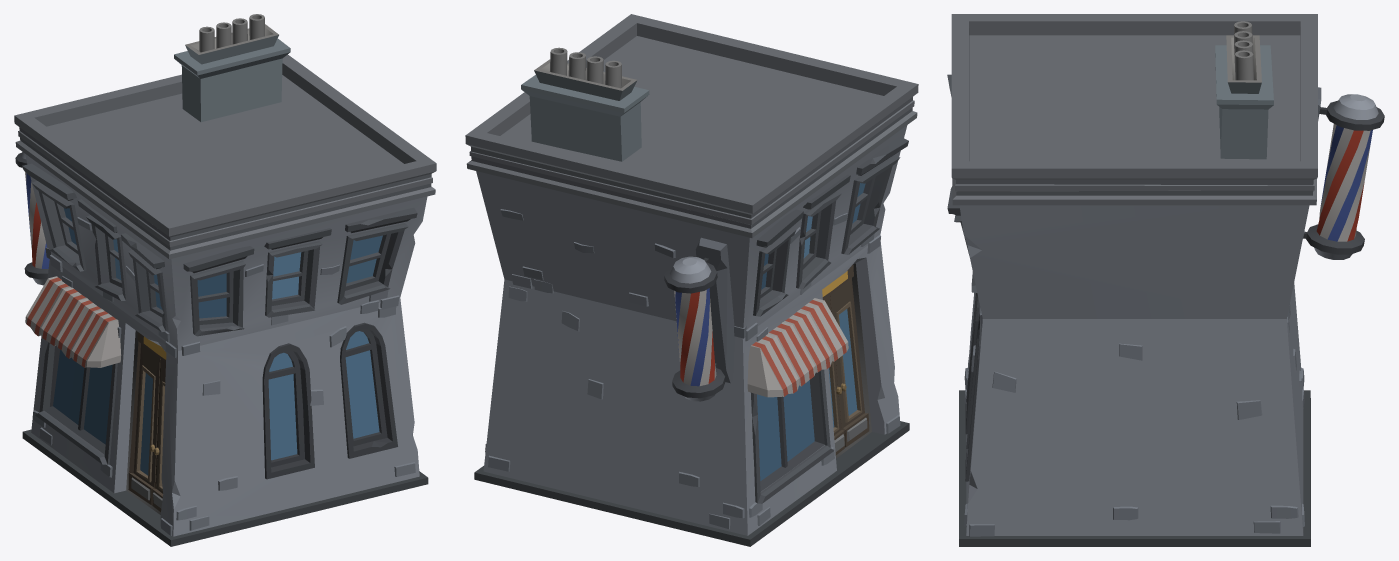
Rendered from House_2.fbx.
3 renders of one model, left to right at view 1: azimuth 30°, elevation 25°; view 2: azimuth 150°, elevation 25°; view 3: azimuth 270°, elevation 25°, orthographic. The views are drawn at different scales.
Parts seen in each view (by area): view 1: House_2; view 2: House_2; view 3: House_2.
Boxes of the visible parts, x1,y1,x2,y2 form: House_2: [14, 14, 436, 546]; House_2: [465, 14, 918, 546]; House_2: [947, 14, 1384, 546].
Bounding box in the file's own units: 117 × 157 × 135.
